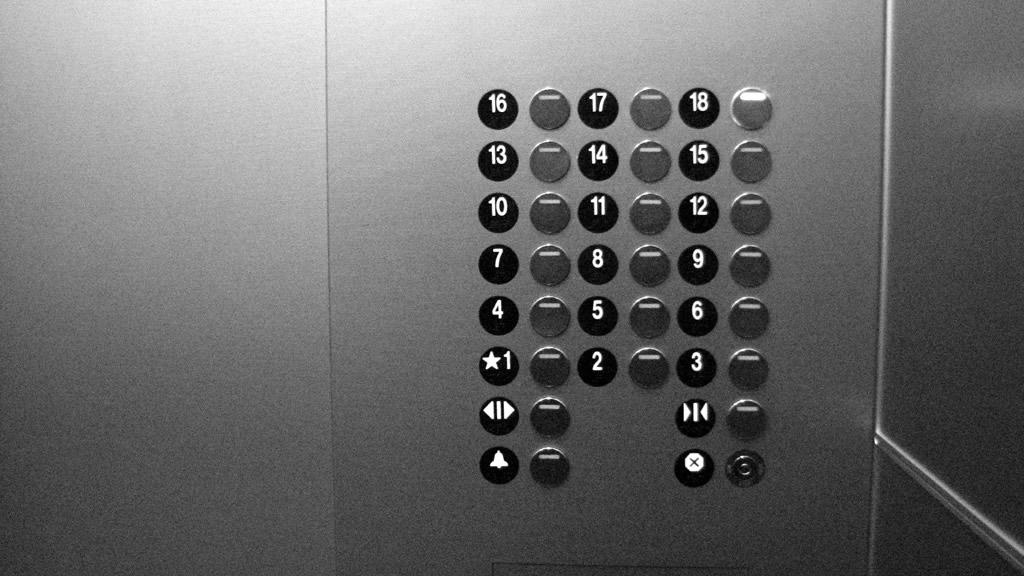10: (475, 190, 519, 234)
11: (576, 189, 620, 232)
12: (676, 189, 720, 232)
13: (475, 137, 519, 181)
14: (576, 138, 620, 181)
15: (676, 138, 720, 181)
16: (475, 86, 519, 130)
17: (575, 86, 619, 130)
18: (676, 85, 720, 129)
2: (575, 344, 619, 387)
3: (674, 343, 718, 386)
4: (474, 290, 518, 334)
5: (575, 293, 619, 336)
6: (675, 293, 719, 336)
7: (473, 239, 517, 283)
8: (576, 241, 620, 284)
9: (675, 242, 719, 285)
alarm: (477, 442, 521, 485)
close: (673, 395, 717, 438)
empty: (526, 86, 570, 130), (527, 139, 571, 183), (527, 190, 571, 234), (527, 242, 571, 286), (526, 293, 570, 337), (527, 344, 571, 388), (527, 394, 571, 438), (527, 444, 571, 488), (628, 86, 672, 130), (627, 138, 671, 182), (627, 190, 671, 234), (627, 242, 671, 286), (626, 293, 670, 337), (626, 344, 670, 388), (729, 86, 773, 130), (728, 138, 772, 182), (728, 190, 772, 234), (728, 242, 772, 286), (727, 294, 771, 338), (725, 346, 769, 390), (725, 397, 769, 441)
keyhole: (723, 446, 767, 489)
open: (477, 393, 521, 436)
s1: (474, 341, 518, 385)
stop: (672, 444, 716, 487)
